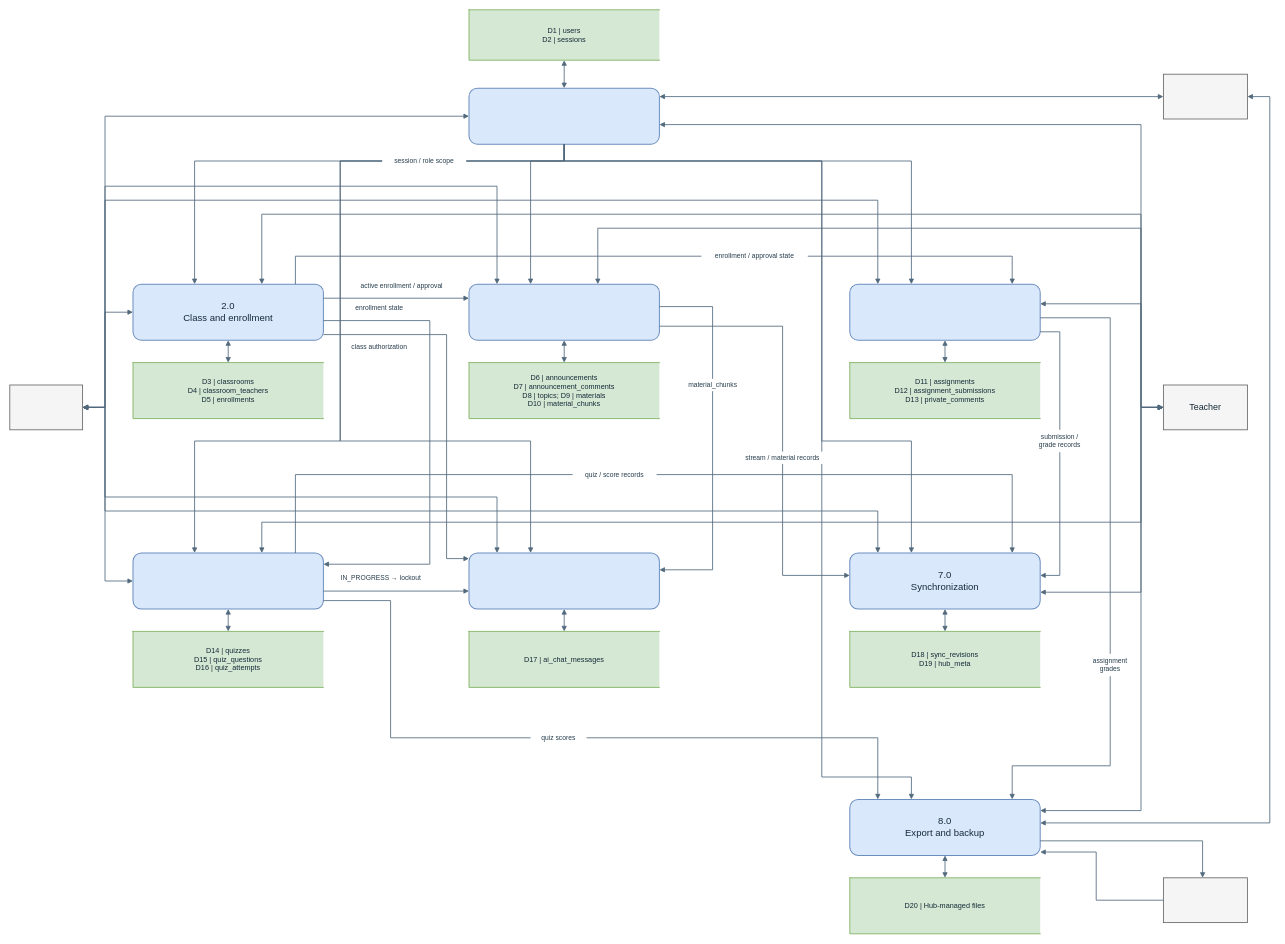
Some shapes in this 1285 by 944 pixel diagram are drawn without their labels. The centre of each missing label's shape, as x and y in pixels:
"1.0 Accounts and authentication" goes at point 564,115.
"3.0 Stream, materials and video" goes at point 564,311.
"4.0 Assignments and homework" goes at point 944,311.
"5.0 Quizzes and grading" goes at point 228,580.
"6.0 Lesson tutor" goes at point 564,580.
"Admin" goes at point 1205,96.
"Learner" goes at point 46,407.
"USB storage" goes at point 1205,900.
